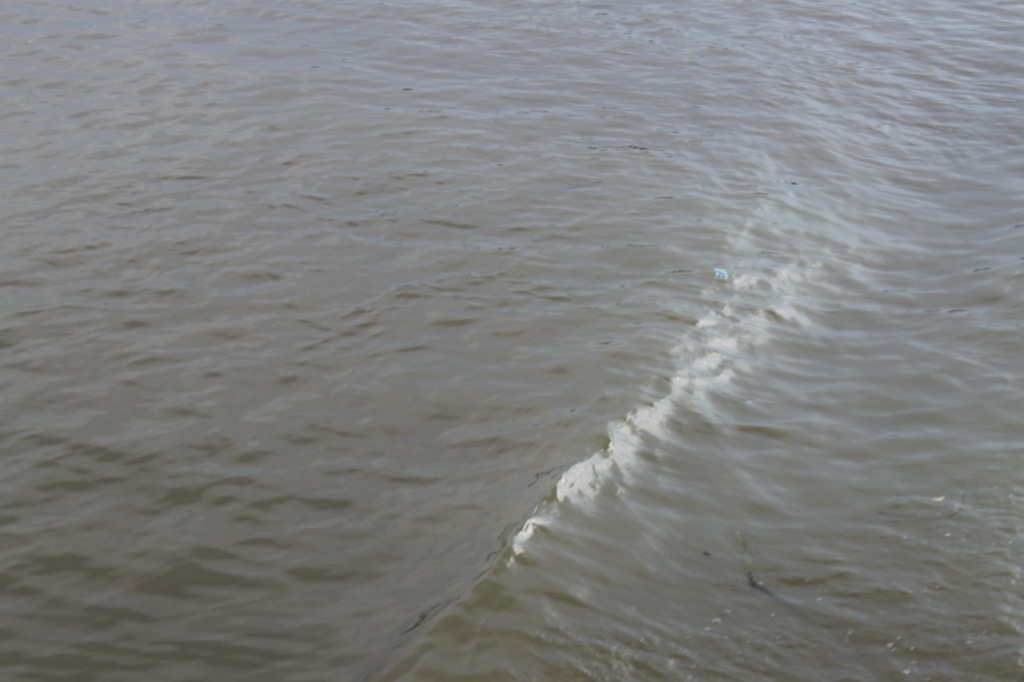plastic: (710, 259, 732, 287)
